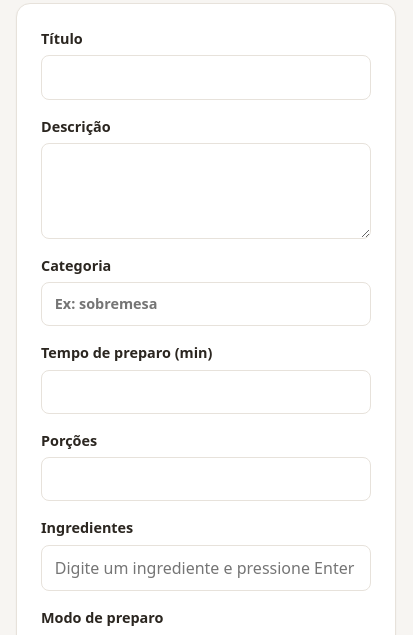
Test: RecipeFormPage › blocks submit when there are no ingredients or steps
Type "Bolo de cenoura" into the field labelled "Título". click: (206, 77)
box: [41,55,371,100]
(page scrolled)
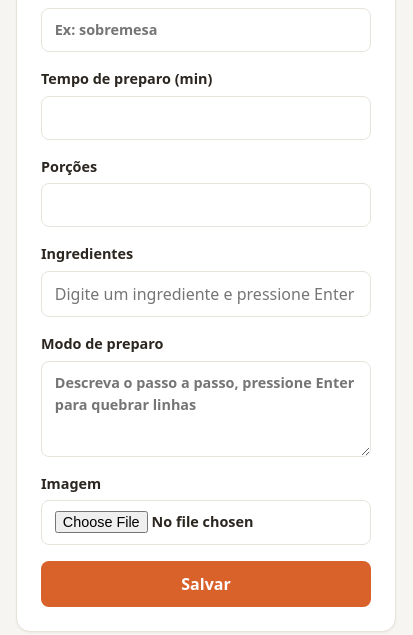
Click the button "Salvar". click: click(206, 584)
box: [41,561,371,607]
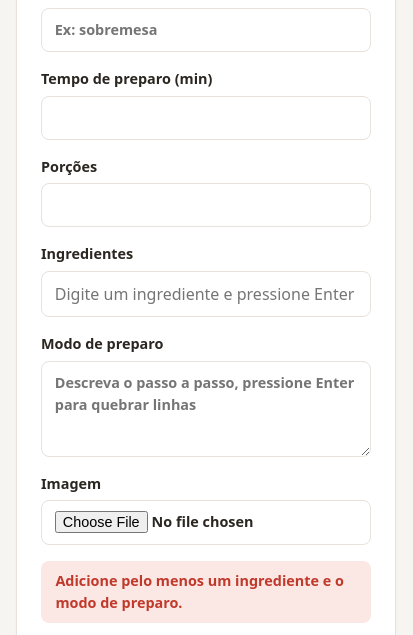
Now the message "Adicione pelo menos um ingrediente e o modo de preparo." is shown, box [41,561,371,623]
